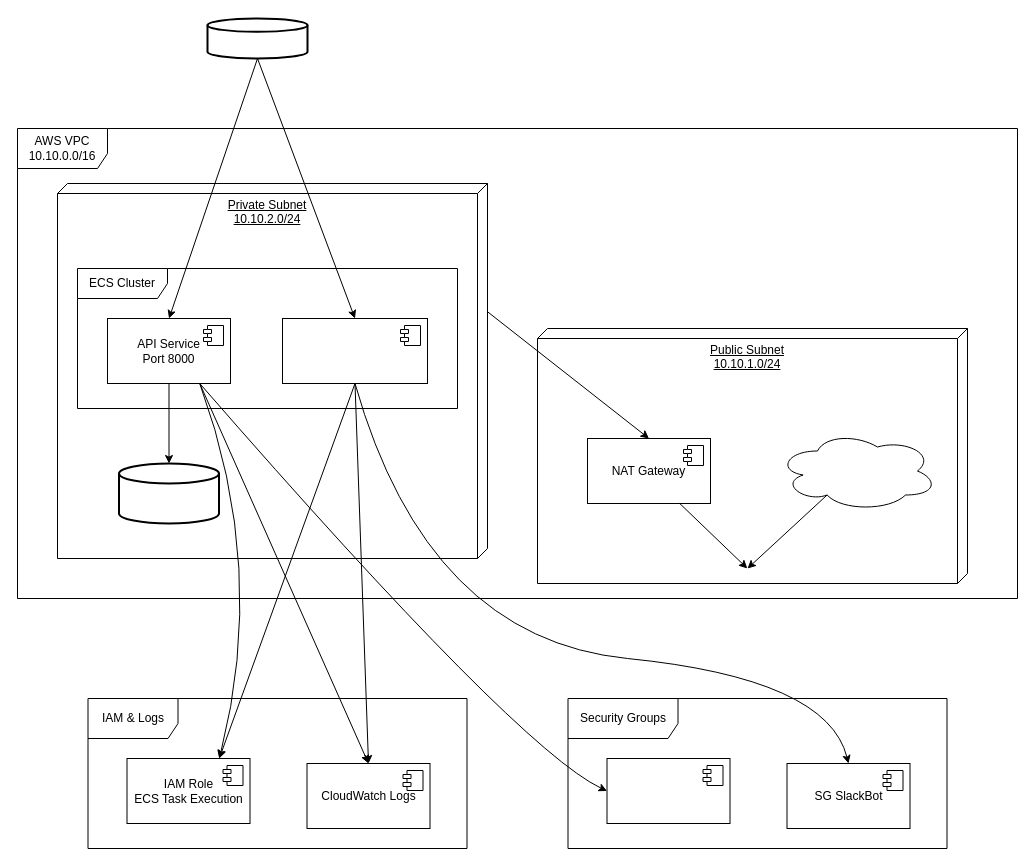
This 1035x866 diagram has some shape labels left out. The shapes that lost their labels are listed below. From the top down, each one's centre as x and y in pixels, then its label:
At (x=257, y=38): "ECR Repository".
At (x=355, y=351): "SackBot Service Port 7000".
At (x=857, y=470): "Internet Gateway".
At (x=169, y=493): "Cloud Map Service Discovery".
At (x=668, y=791): "SG API".
